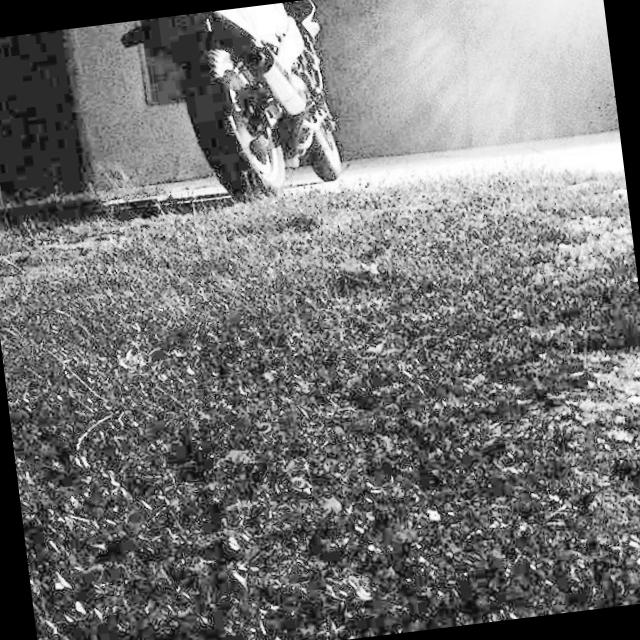Motorcycle: (140, 0, 439, 250)
